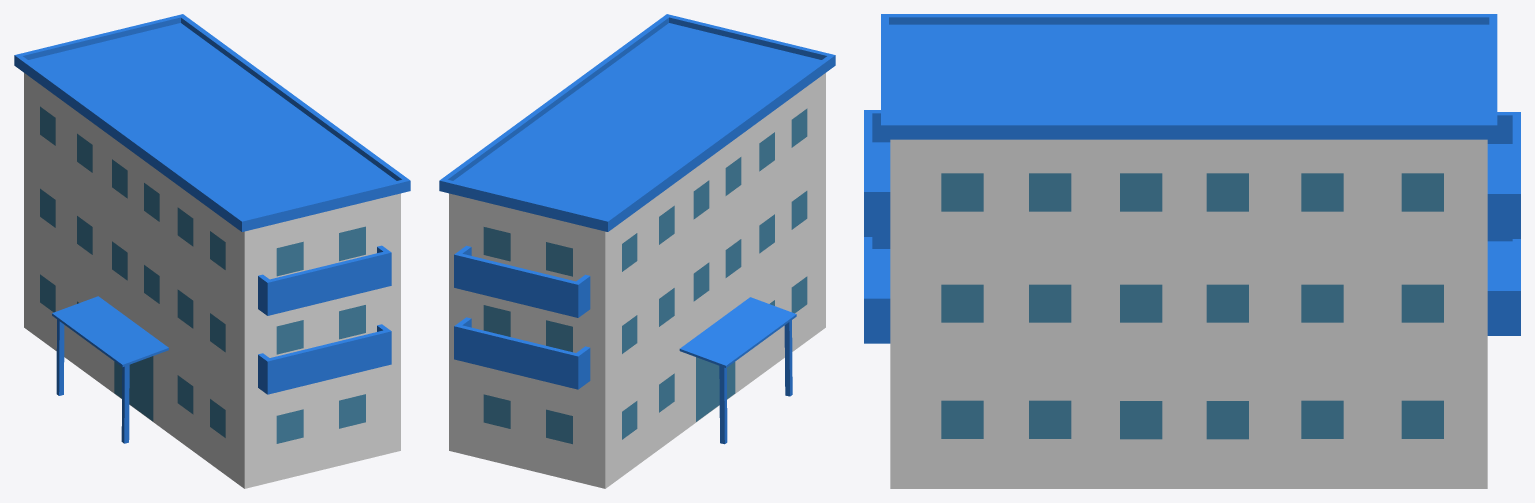
File: building_blue.glb
The picture shows the model from 3 angles, left to right: view 1: azimuth 30°, elevation 25°; view 2: azimuth 150°, elevation 25°; view 3: azimuth 270°, elevation 25°; orthographic projection. The views are drawn at different scales.
Visible parts, largest first — view 1: building; view 2: building; view 3: building.
Boxes of the visible parts, x1,y1,x2,y2 form: building: [14, 14, 410, 488]; building: [439, 14, 835, 488]; building: [864, 14, 1520, 488].
Size of the model in its own units: 7.87 by 9.79 by 15.82.
Materials: 1 (1 with a texture image).
